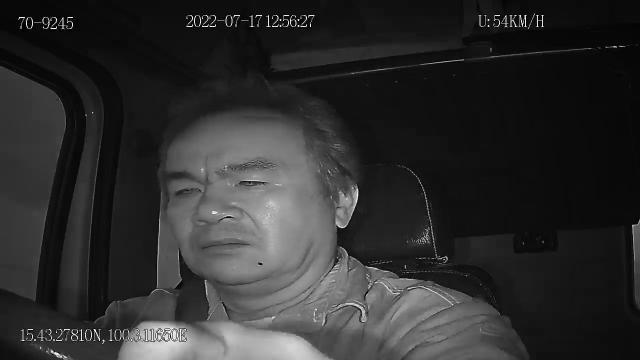SafeDriving: (226, 166, 279, 195), (164, 175, 206, 205)
Seatbelt: (174, 274, 214, 326)
